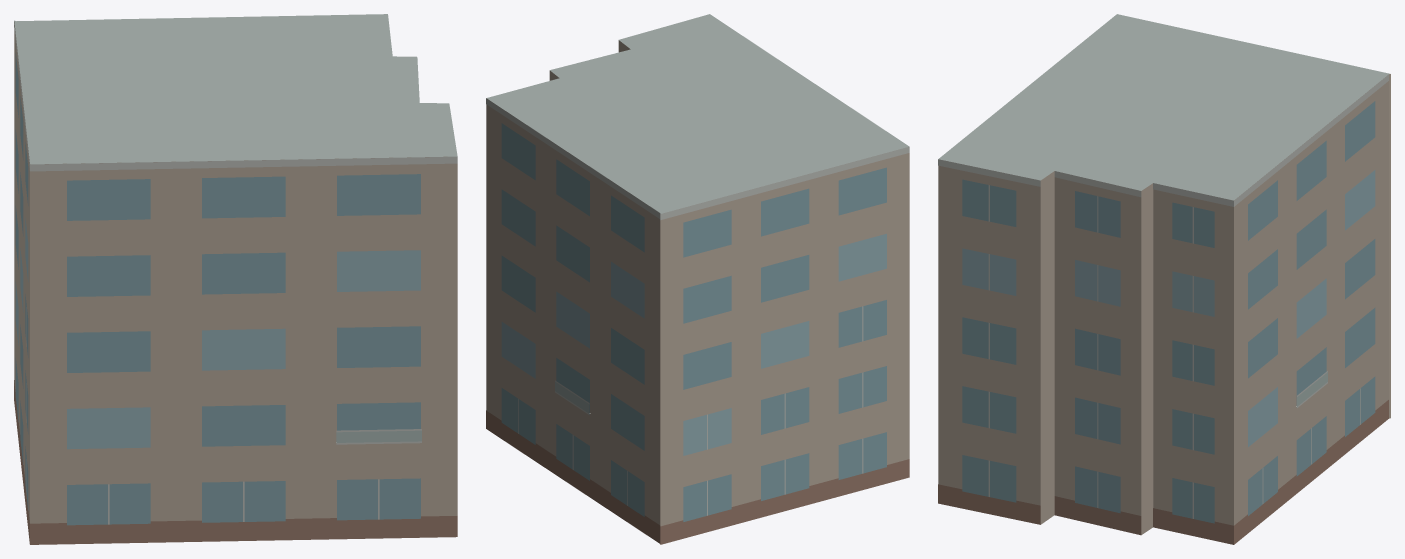
Rendered from survey-upis-32682612.glb.
The picture shows the model from 3 angles, left to right: view 1: azimuth 30°, elevation 25°; view 2: azimuth 150°, elevation 25°; view 3: azimuth 270°, elevation 25°; orthographic projection. The views are drawn at different scales.
Parts seen in each view (by area): view 1: survey-upis-32682612.tmp; view 2: survey-upis-32682612.tmp; view 3: survey-upis-32682612.tmp.
Boxes of the visible parts, bbox=[...] form: survey-upis-32682612.tmp: bbox=[14, 14, 457, 544]; survey-upis-32682612.tmp: bbox=[486, 14, 909, 544]; survey-upis-32682612.tmp: bbox=[938, 14, 1390, 544].
Size of the model in its own units: 15.29 by 13.15 by 15.68.
